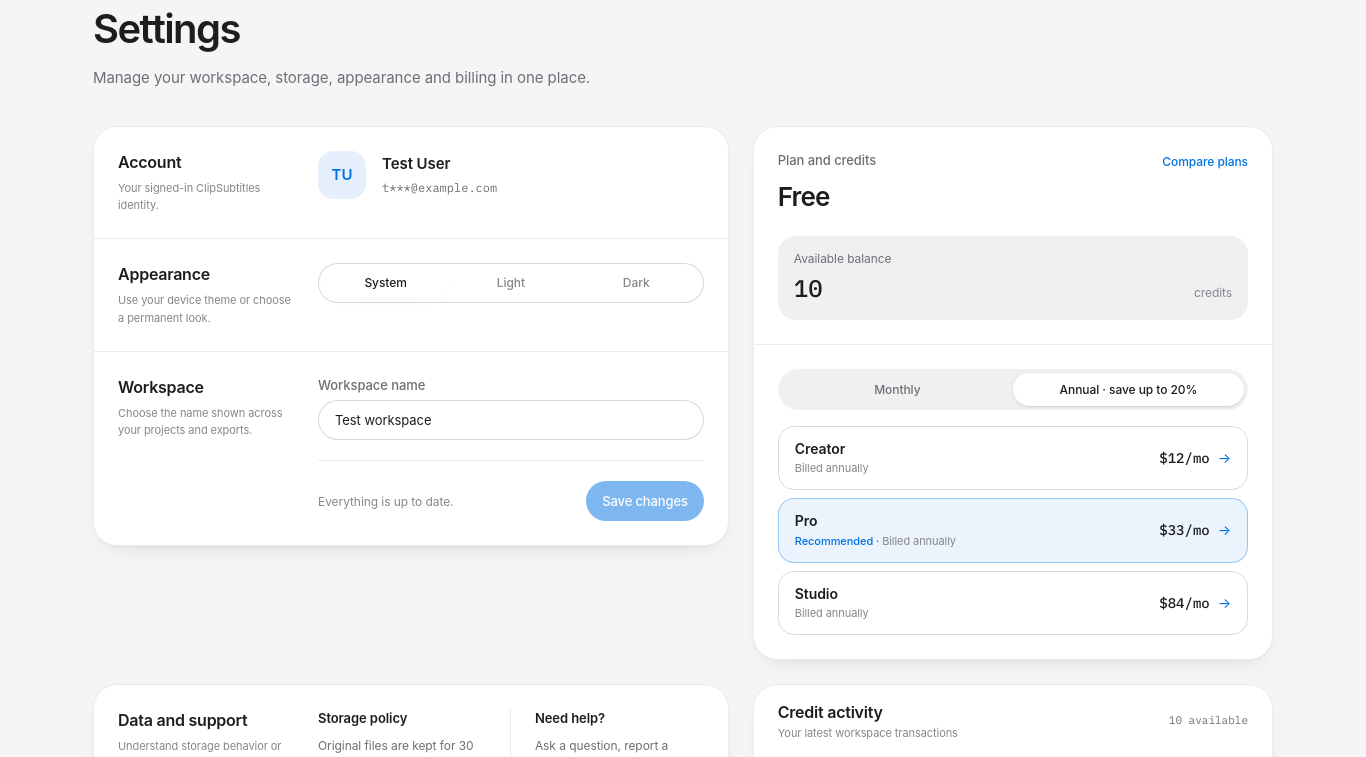
it: dashboard billing controls › keeps workspace saving quiet until a setting actually changes
The image size is (1366, 757).
expect the button "Save changes" is disabled: met, box x1=586 y1=481 x2=704 y2=521
Replace the text in the field labelled "Workspace name" with "Renamed workspace" at (511,420), box x1=318 y1=400 x2=704 y2=440
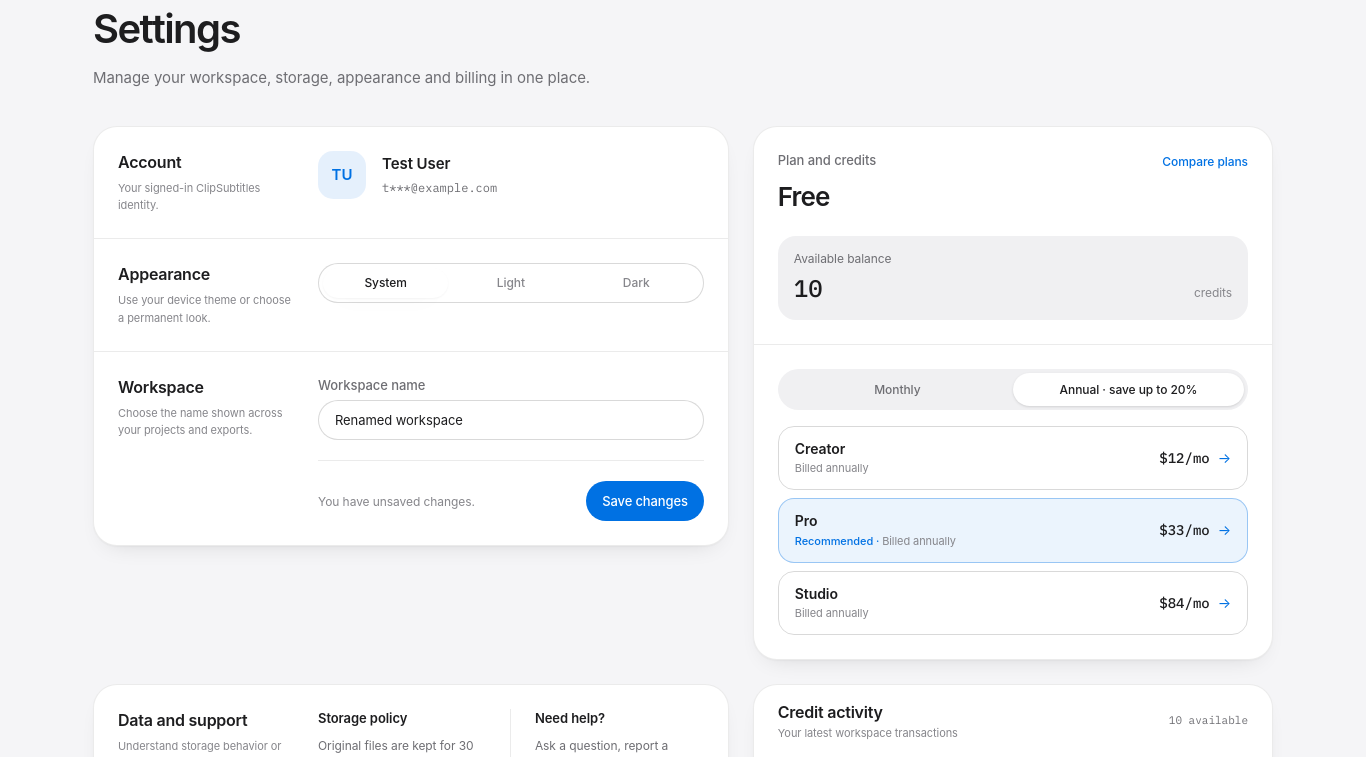
expect the button "Save changes" is enabled: met
Click the button "Save changes" at (645,501), box x1=586 y1=481 x2=704 y2=521
(page scrolled)
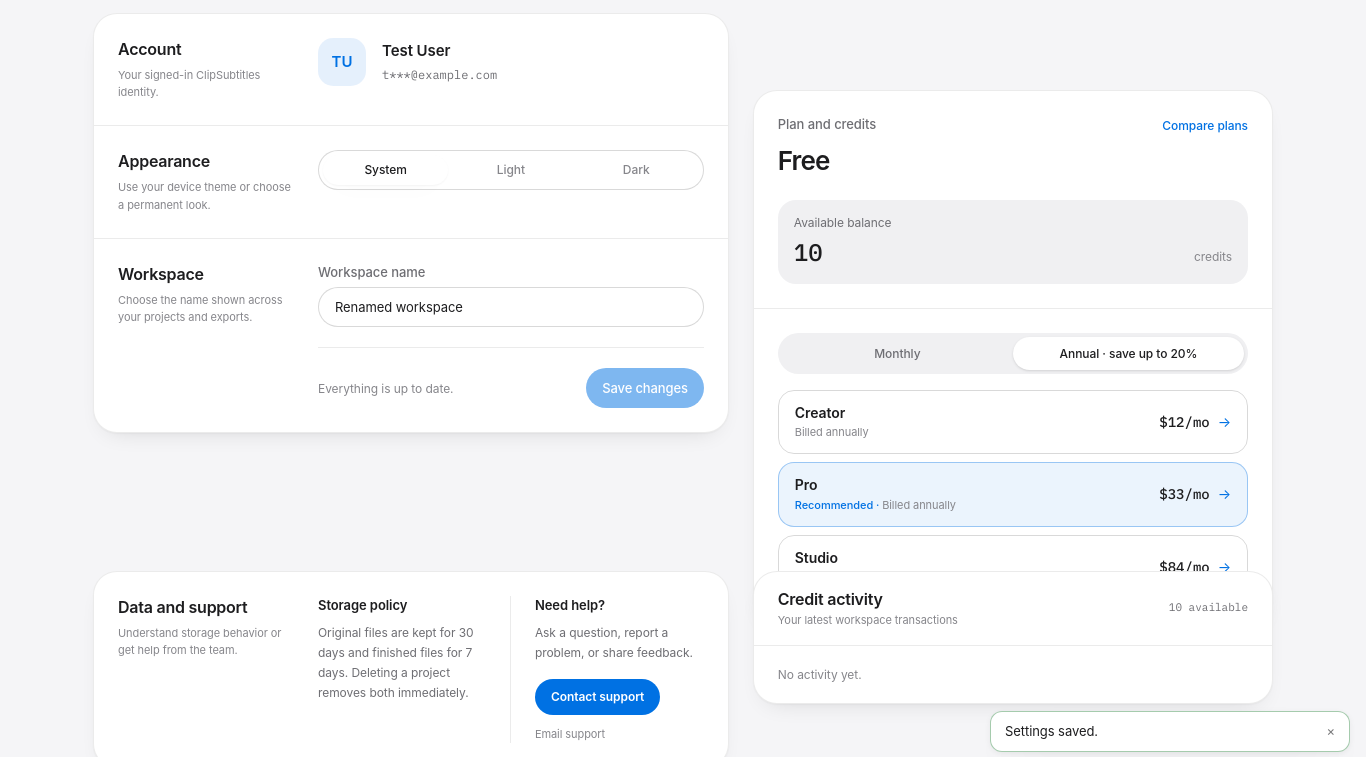
expect the text "Original files are kept for 30 days and finished files for 7 days" is shown: met, box x1=318 y1=623 x2=486 y2=703
expect the button "Save changes" is disabled: met, box x1=586 y1=368 x2=704 y2=408
